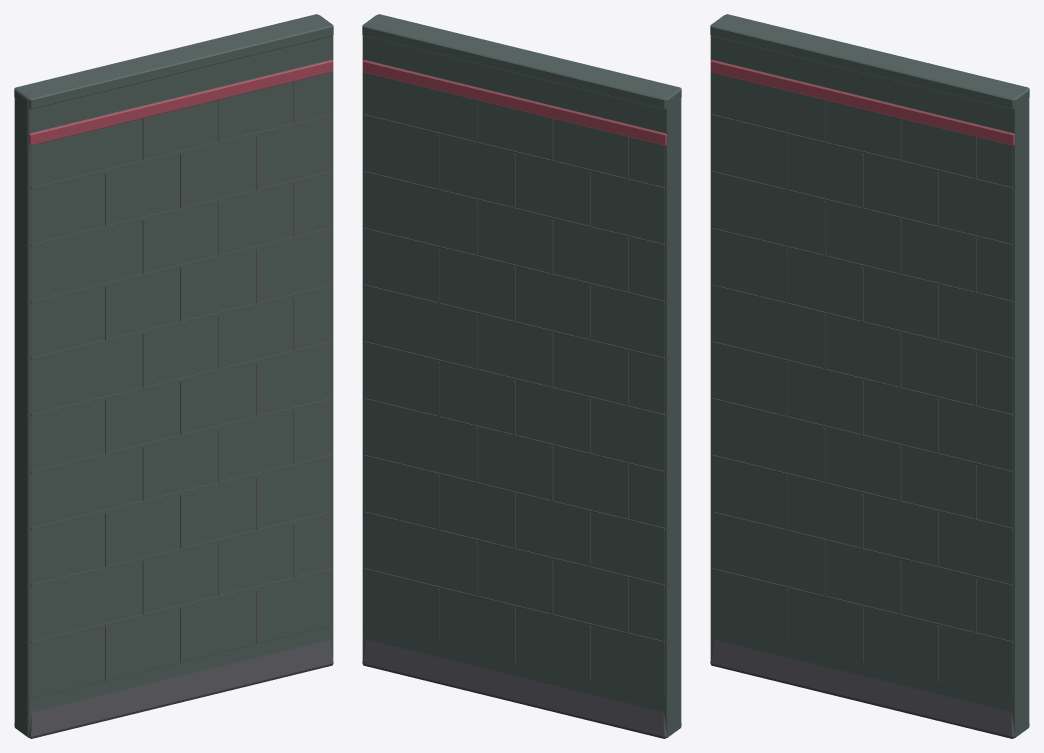
The model's file is butchers-shop-and-deli-counter-tiled-wall-module-dark-18af76e6__34440.glb.
3 views of the same model, side by side, from view 1: azimuth 30°, elevation 25°; view 2: azimuth 150°, elevation 25°; view 3: azimuth 330°, elevation 25° (orthographic).
Parts seen in each view (by area): view 1: tiled-wall-module-dark; view 2: tiled-wall-module-dark; view 3: tiled-wall-module-dark.
Part boxes in pixels (bbox=[...]): tiled-wall-module-dark: bbox=[14, 14, 333, 738]; tiled-wall-module-dark: bbox=[362, 14, 681, 738]; tiled-wall-module-dark: bbox=[710, 14, 1029, 738].
Bounding box in the file's own units: 1.5 × 3 × 0.146.
